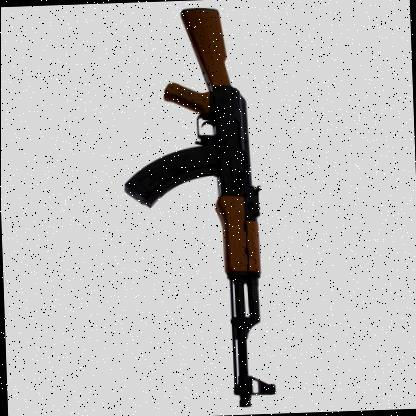rifle: (103, 7, 293, 413)
